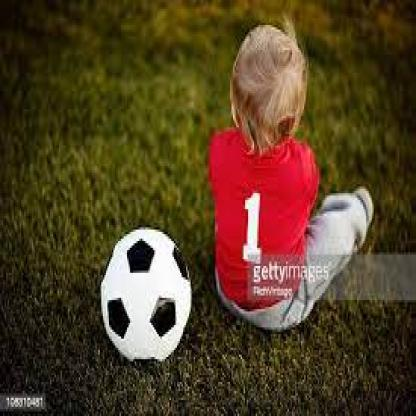ball: (100, 230, 191, 362)
